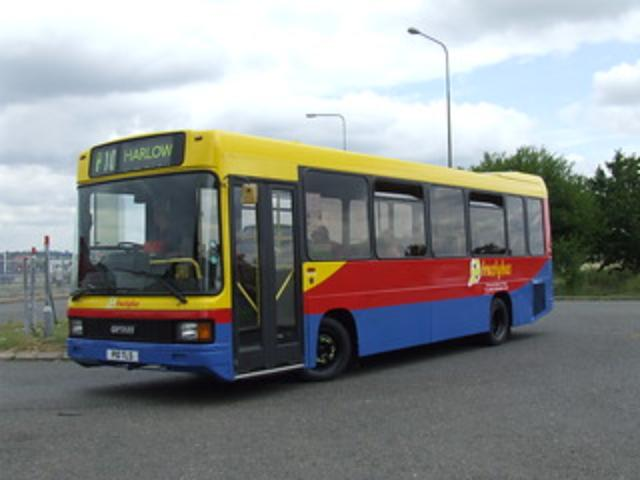bus: (68, 128, 554, 382)
